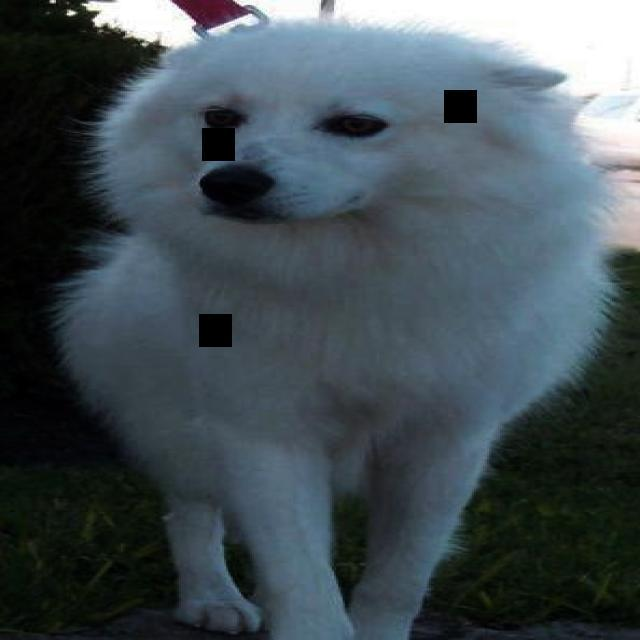adult_dog: (54, 15, 614, 640)
